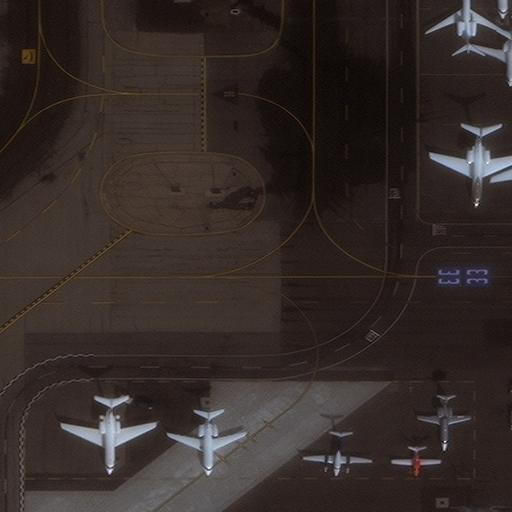Medium Civil Transport: (60, 397, 157, 476), (429, 125, 511, 206), (167, 411, 247, 475), (424, 0, 500, 54), (302, 431, 372, 476), (473, 30, 511, 87)
Small Civil Transport: (416, 394, 471, 452), (391, 444, 441, 476)
